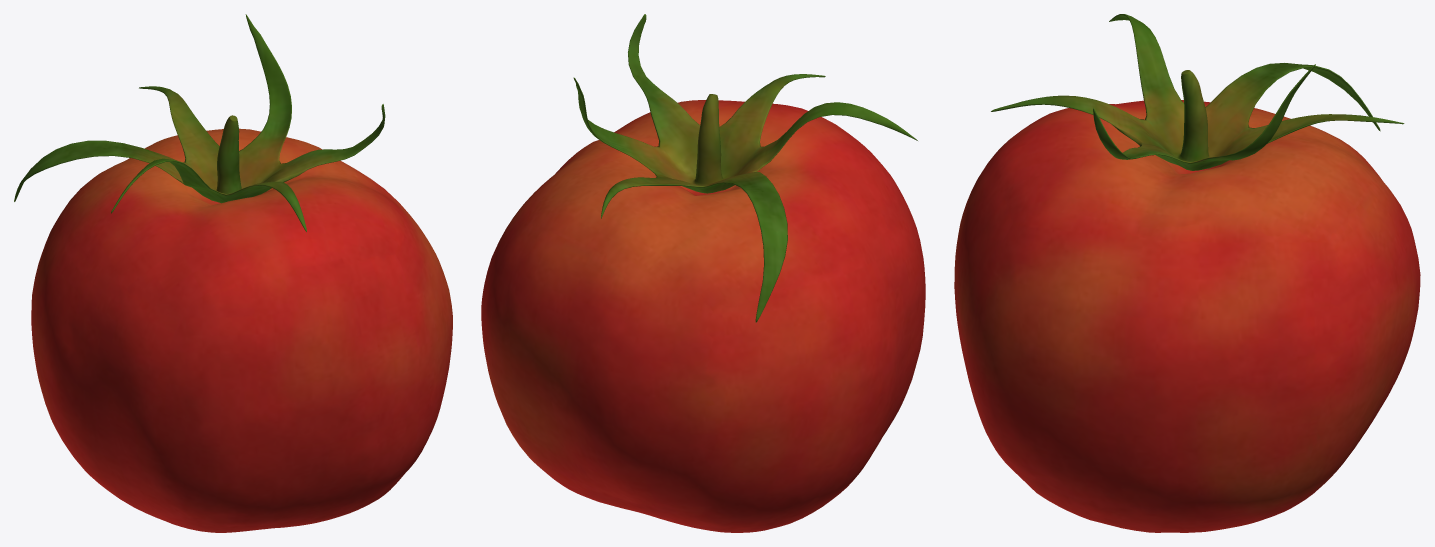
The model's file is tomato_f01.glb.
3 renders of one model, left to right at view 1: azimuth 30°, elevation 25°; view 2: azimuth 150°, elevation 25°; view 3: azimuth 270°, elevation 25°, orthographic. The views are drawn at different scales.
Visible parts, largest first — view 1: sm_food_produce_tomato_f01_mesh_00; view 2: sm_food_produce_tomato_f01_mesh_00; view 3: sm_food_produce_tomato_f01_mesh_00.
Boxes of the visible parts, x1,y1,x2,y2 form: sm_food_produce_tomato_f01_mesh_00: (14,14,452,532); sm_food_produce_tomato_f01_mesh_00: (481,14,925,532); sm_food_produce_tomato_f01_mesh_00: (954,14,1420,532).
Size of the model in its own units: 0.0598 by 0.0702 by 0.0631.
Materials: 1 (1 with a texture image).
